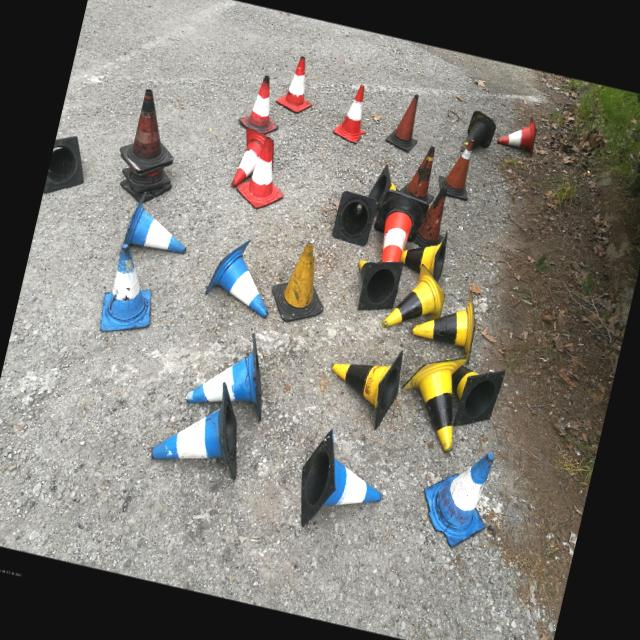blue_cone: (290, 424, 394, 542), (149, 368, 256, 479), (412, 440, 502, 554), (184, 322, 278, 422), (202, 232, 284, 318), (96, 241, 166, 341), (122, 189, 196, 258)
large_orange_cone: (366, 187, 430, 269)
orange_cone: (232, 132, 295, 214), (230, 126, 281, 195), (236, 72, 288, 136), (274, 52, 322, 116), (331, 80, 376, 145), (495, 110, 540, 157)
unknown_cone: (265, 232, 338, 329), (116, 85, 187, 178), (42, 132, 92, 201), (434, 134, 480, 200), (412, 181, 455, 251), (398, 140, 445, 203), (331, 189, 378, 247), (384, 90, 426, 154), (459, 109, 498, 160)
yellow_cone: (390, 345, 473, 454), (320, 336, 407, 432), (406, 280, 484, 364), (430, 357, 505, 434), (380, 258, 450, 338), (348, 252, 404, 317), (396, 222, 451, 282), (366, 162, 404, 210)
